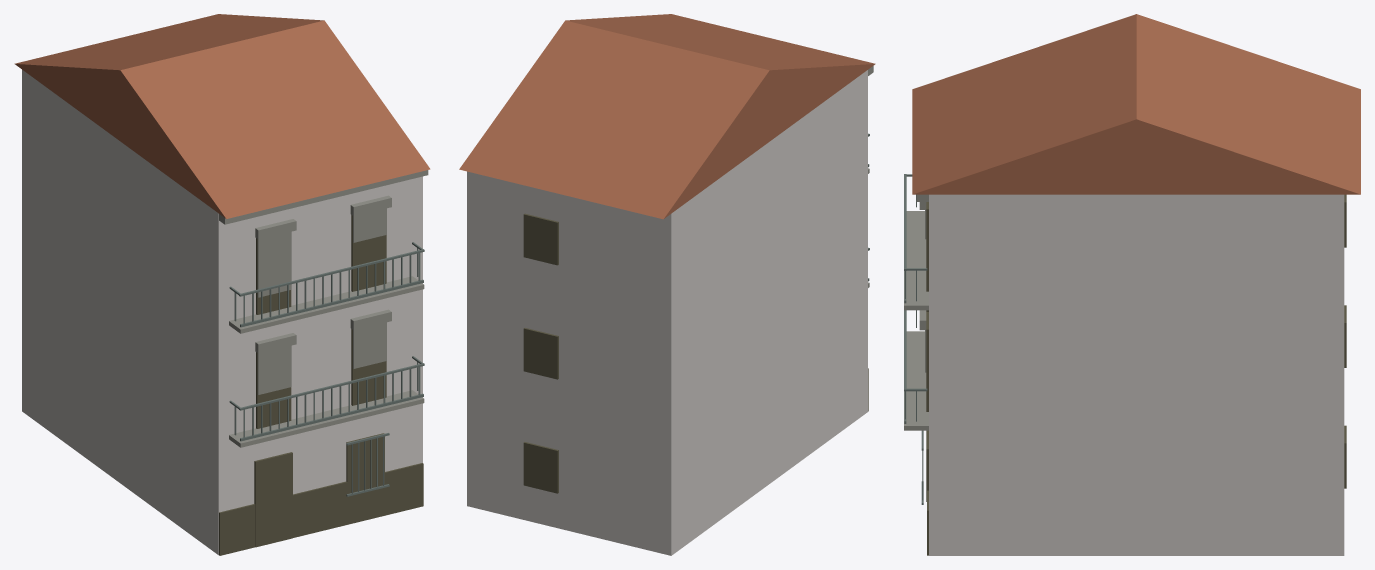
Rendered from SM_TresAlturas_v0_Cal_LOD0.fbx.
3 views of the same model, side by side, from view 1: azimuth 30°, elevation 25°; view 2: azimuth 150°, elevation 25°; view 3: azimuth 270°, elevation 25° (orthographic). The views are drawn at different scales.
Parts seen in each view (by area): view 1: SM_pueblo_valenciano_v10_LOD0; view 2: SM_pueblo_valenciano_v10_LOD0; view 3: SM_pueblo_valenciano_v10_LOD0.
Boxes of the visible parts, x1,y1,x2,y2 form: SM_pueblo_valenciano_v10_LOD0: (14, 14, 430, 555); SM_pueblo_valenciano_v10_LOD0: (459, 14, 875, 555); SM_pueblo_valenciano_v10_LOD0: (904, 14, 1360, 555).
Size of the model in its own units: 6 by 11.6 by 11.
